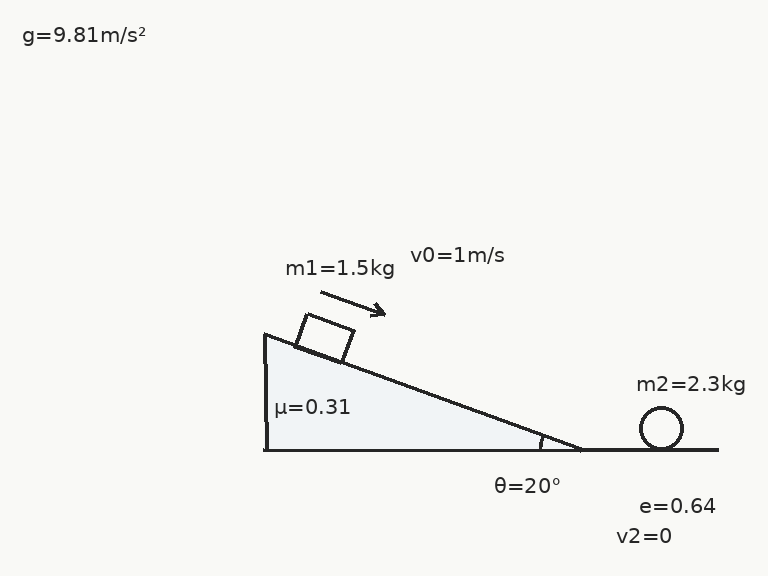ball: (637, 404, 685, 452)
block: (293, 311, 355, 365)
ramp: (262, 333, 582, 452)
